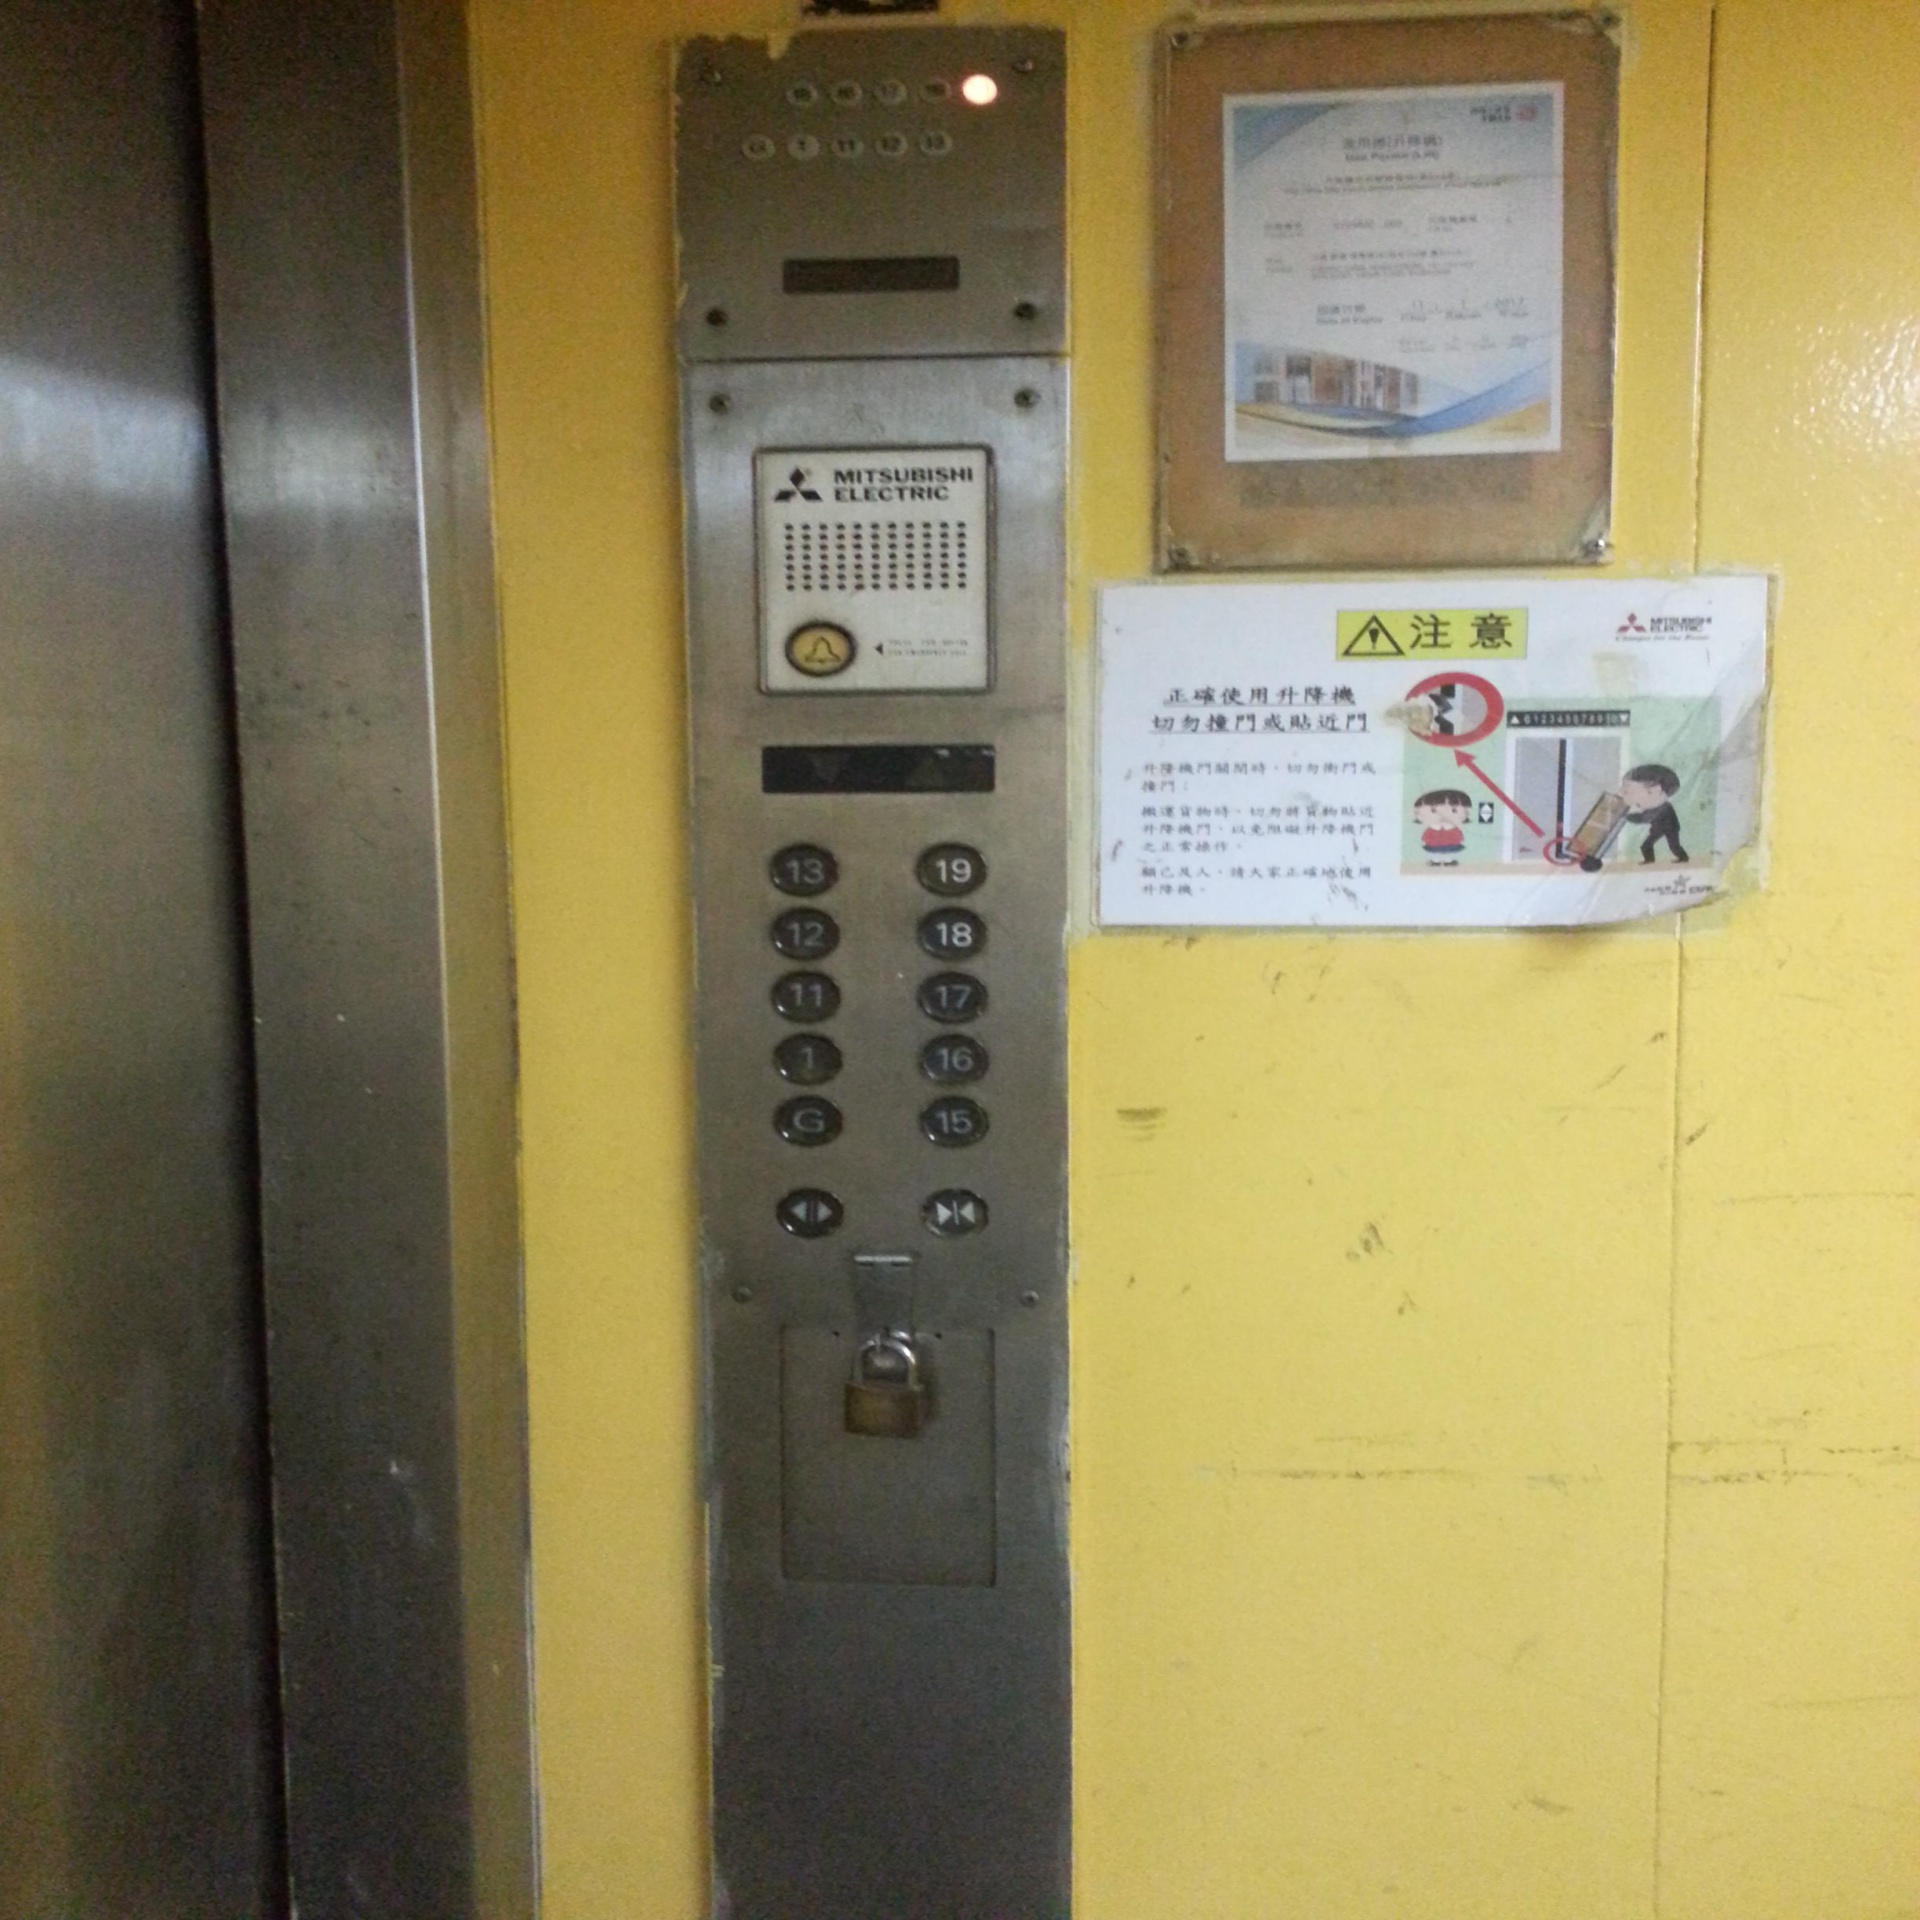1: (770, 1030, 846, 1087)
11: (768, 967, 842, 1025), (828, 128, 867, 162)
12: (767, 905, 840, 962), (874, 127, 907, 158)
13: (768, 840, 840, 898), (914, 127, 955, 156)
15: (916, 1092, 990, 1148)
16: (914, 1030, 990, 1088)
17: (914, 971, 988, 1027)
18: (913, 902, 992, 964)
19: (913, 839, 988, 900)
G: (772, 1094, 844, 1150)
alarm: (782, 619, 858, 679)
blur: (826, 76, 865, 109), (782, 79, 819, 111), (782, 130, 819, 162), (916, 74, 951, 105), (738, 132, 775, 162), (872, 76, 909, 105)
close: (918, 1183, 988, 1240)
empty: (962, 70, 1002, 107)
led: (758, 742, 999, 795), (777, 253, 965, 295)
open: (775, 1187, 844, 1240)
